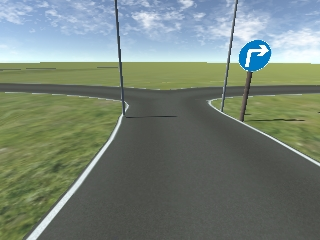right: (239, 40, 271, 72)
